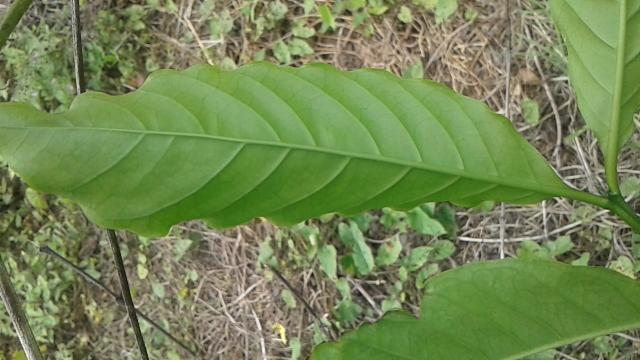healthy: (0, 64, 562, 241)
